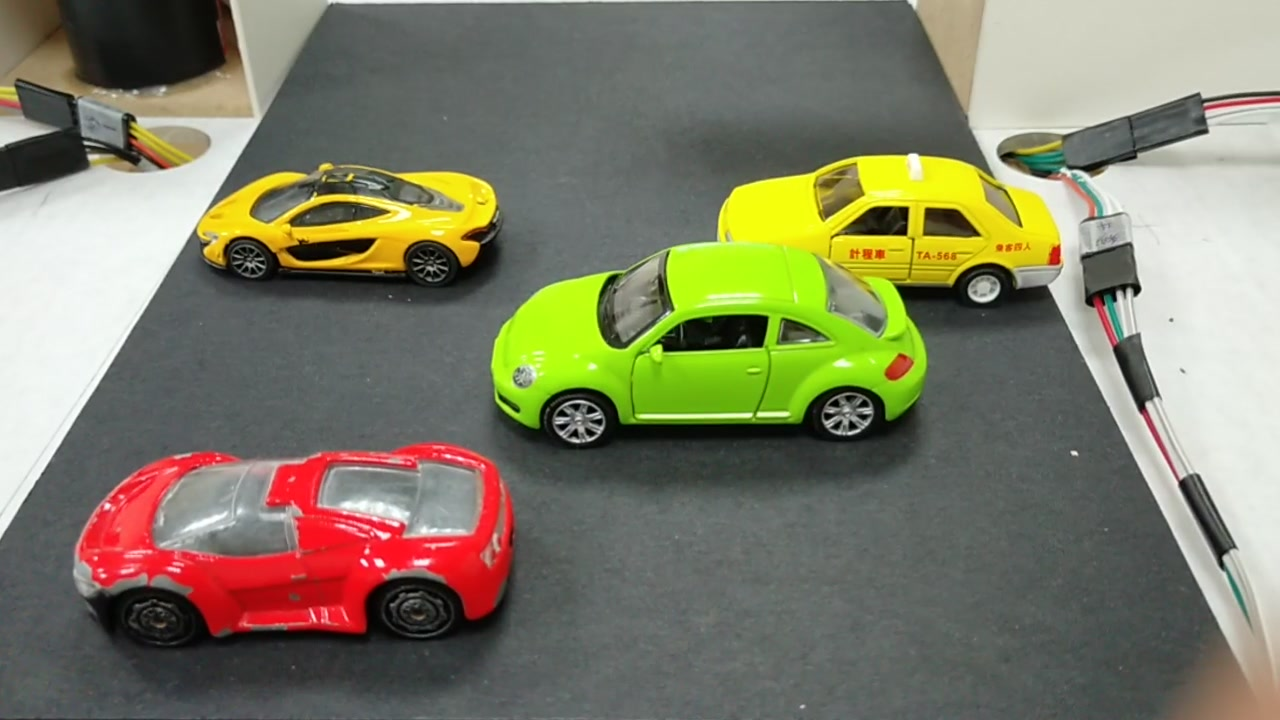car: (71, 448, 521, 648), (504, 241, 926, 435), (732, 166, 1063, 281), (203, 174, 501, 282)
